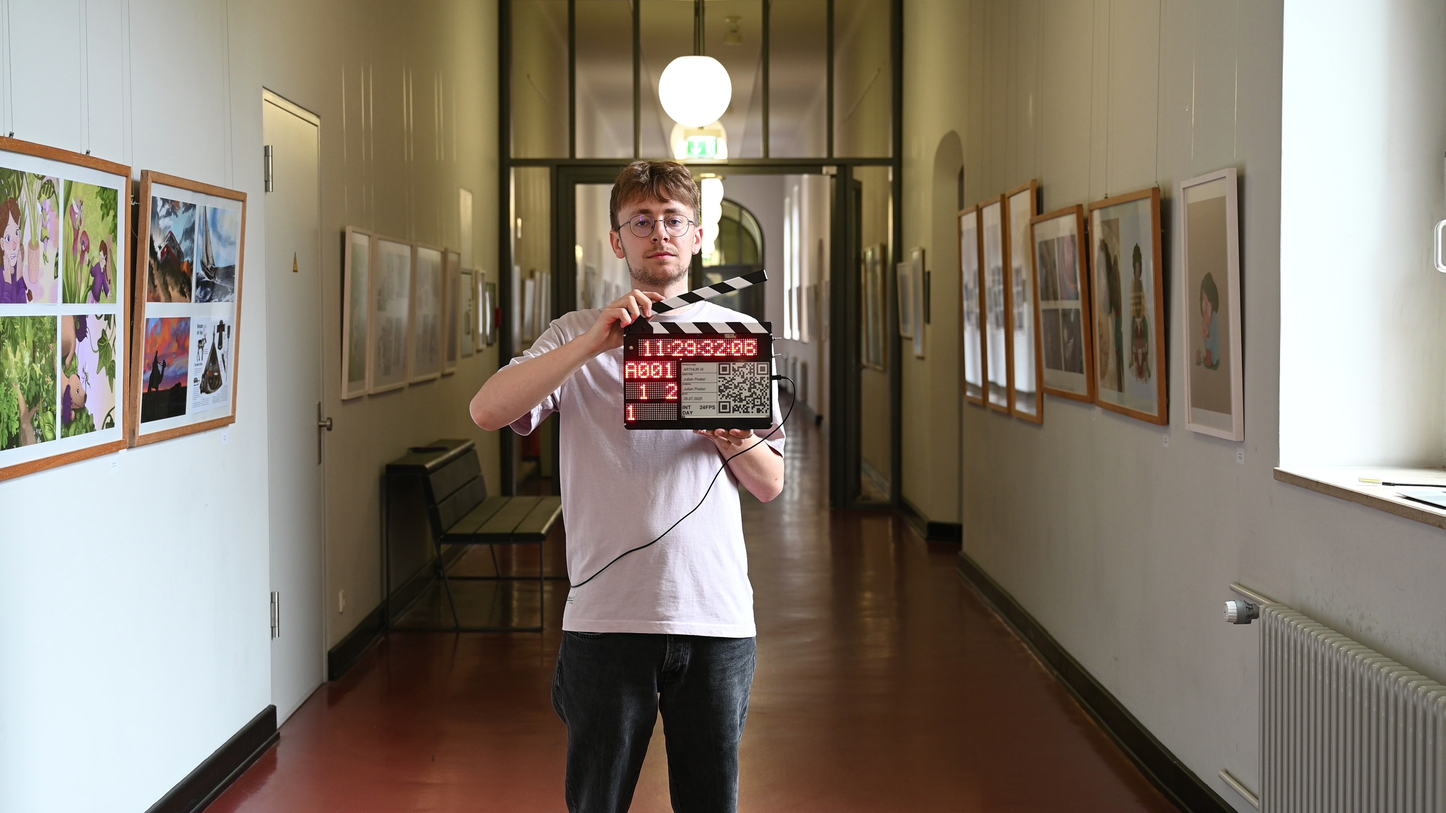ARC-SLATE: (625, 320, 773, 429)
